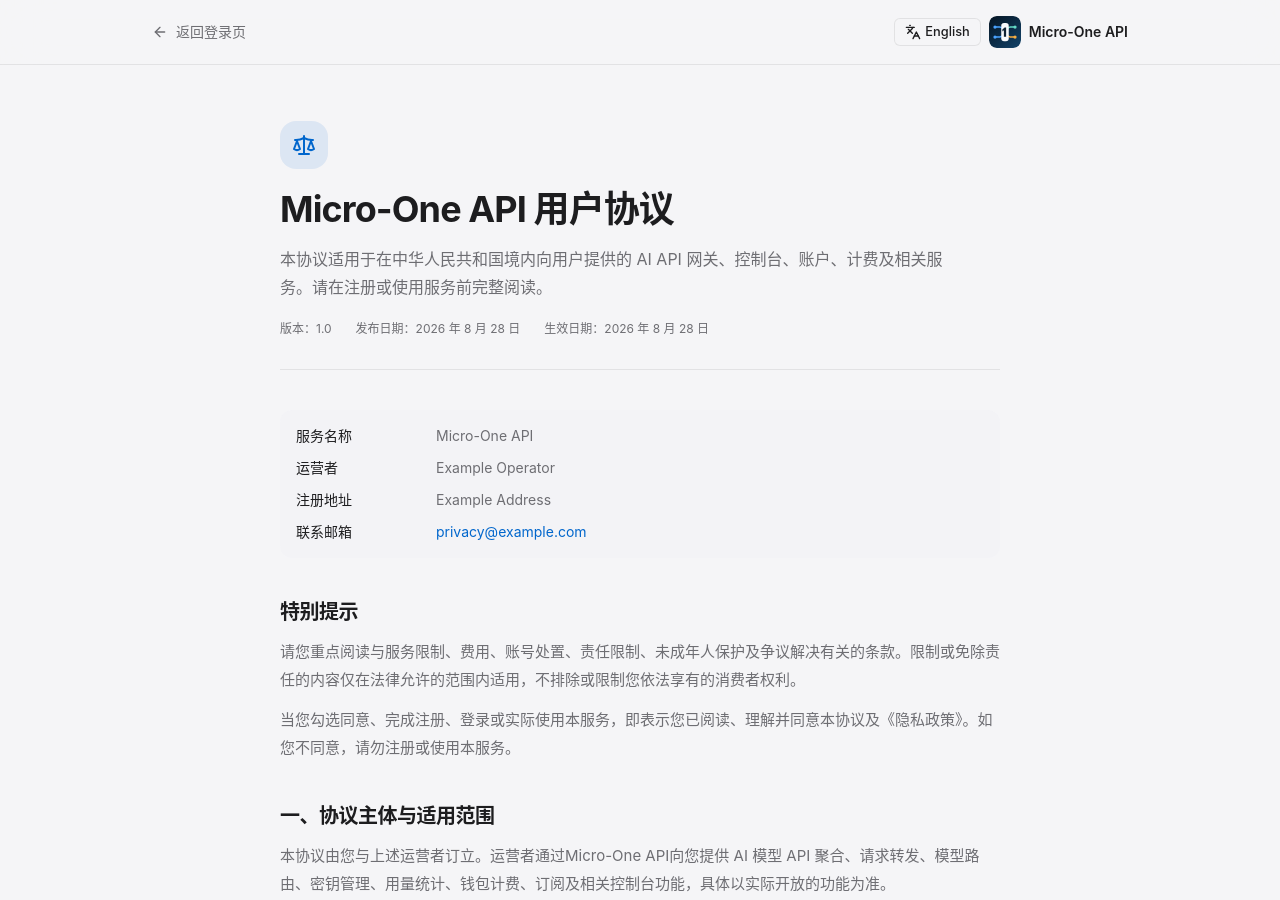
Test: legal page language synchronization › switches the user agreement title and body together
Expected: the heading "Micro-One API 用户协议" is shown, [280,187,674,231]
Expected: the heading "特别提示" is shown, [280,600,358,624]
Click the button with aria-label "切换至英文" at (938, 32), box [894,18,981,46]
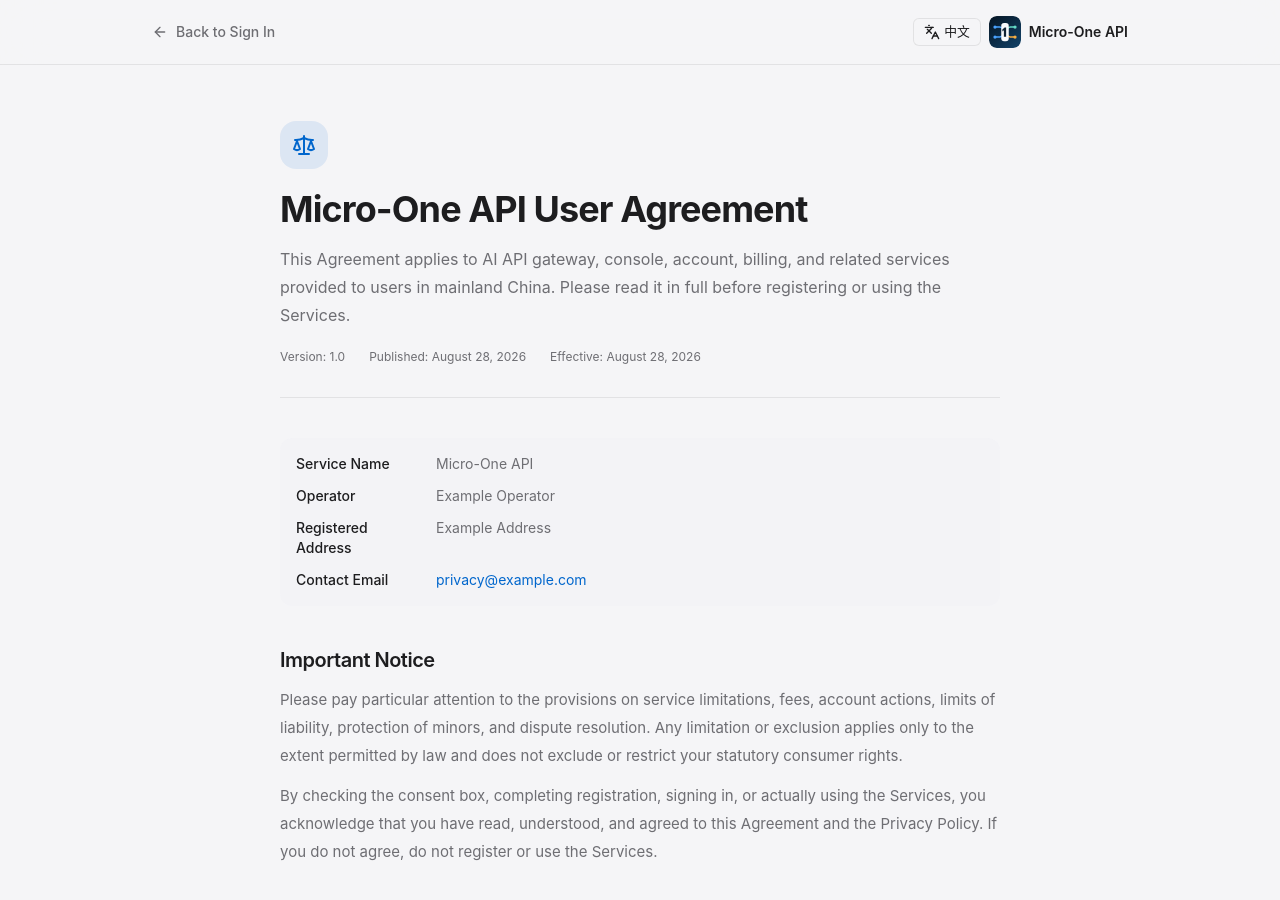
Expected: the heading "Micro-One API User Agreement" is shown, [280,187,808,231]
Expected: the heading "Important Notice" is shown, [280,648,435,672]
